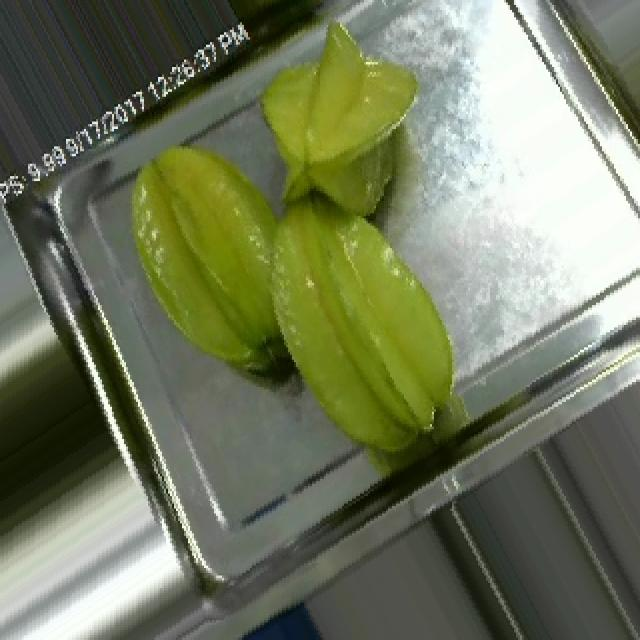fruit: (182, 139, 520, 489), (222, 0, 450, 256)
